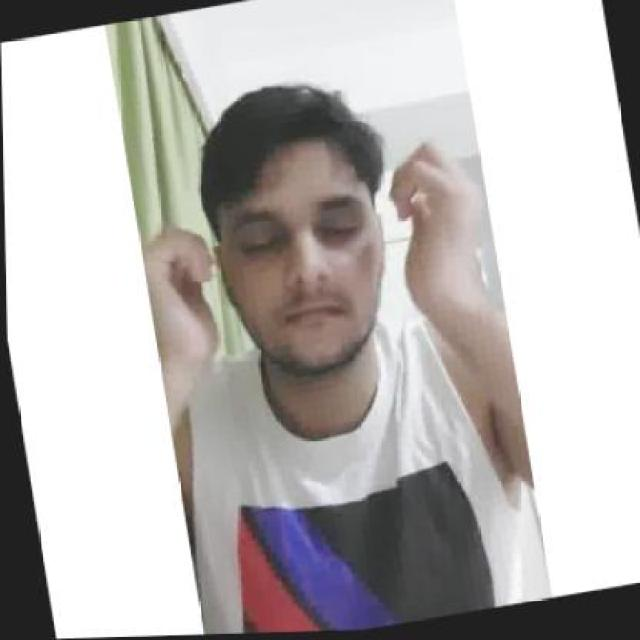inattentif: (185, 71, 402, 389)
